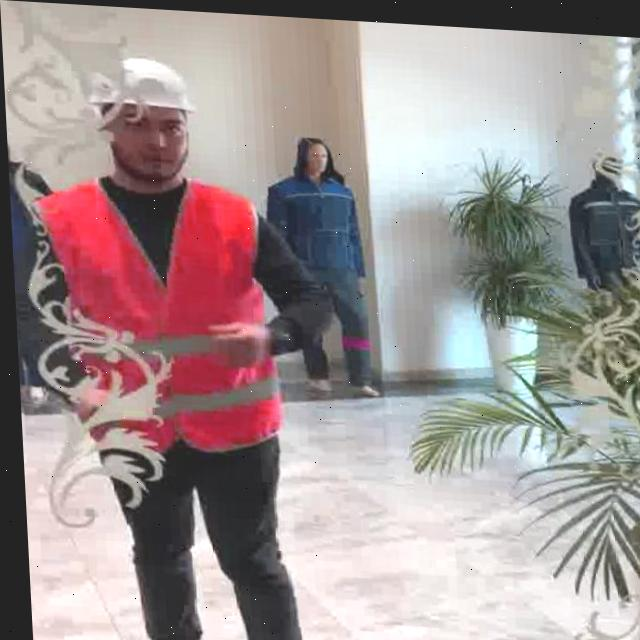No-Glove: (198, 309, 267, 377)
Safety-Vest: (28, 167, 283, 458)
